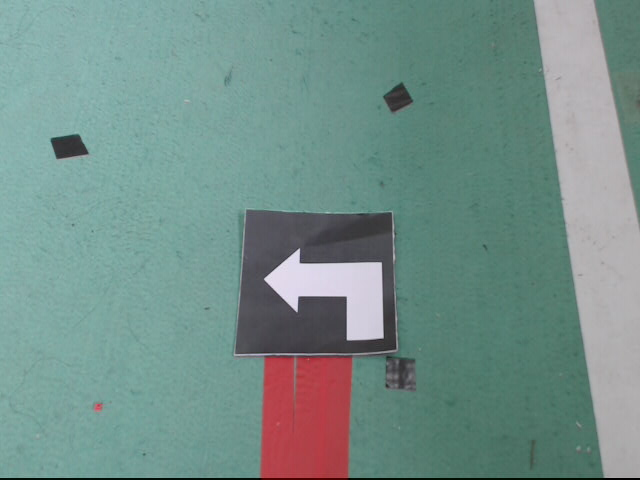left: (235, 207, 399, 356)
